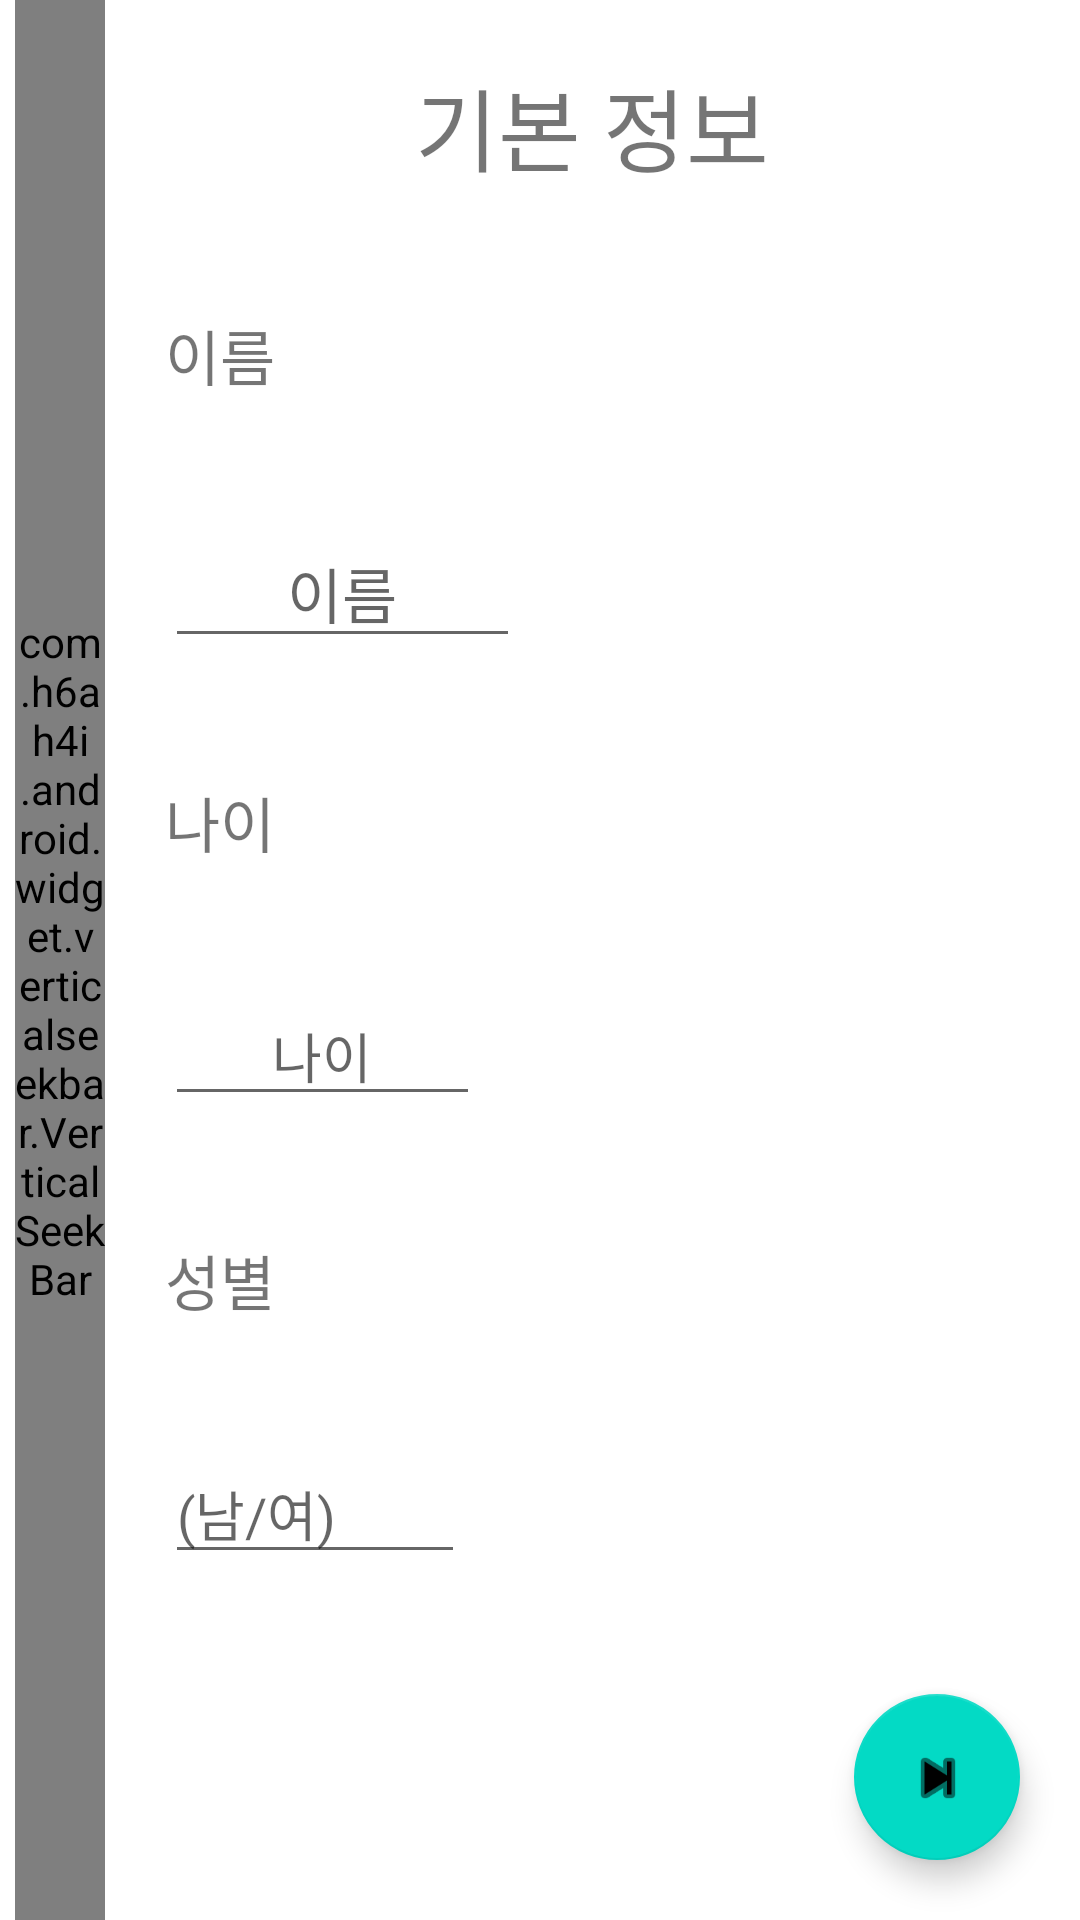

Icon bounding boxes for this 1080 × 1920 phone screenshot, format bbox(x1, y1, x2, y2):
next: bbox(854, 1694, 1020, 1860)
